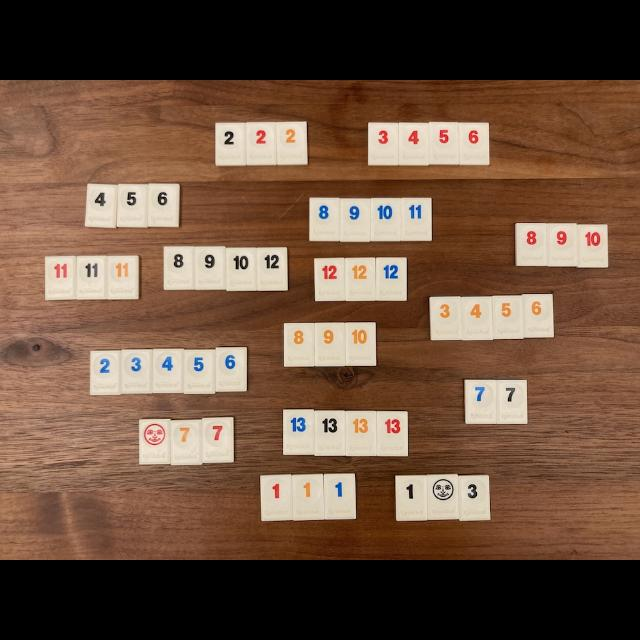black_1: (396, 475, 426, 521)
black_10: (226, 248, 256, 291)
black_11: (76, 256, 106, 299)
black_12: (258, 248, 288, 291)
black_13: (314, 411, 345, 456)
black_2: (215, 122, 246, 166)
black_3: (459, 475, 489, 520)
black_4: (85, 184, 118, 228)
black_5: (116, 186, 149, 228)
black_6: (148, 184, 180, 228)
black_7: (498, 380, 528, 424)
black_8: (164, 246, 195, 290)
black_9: (195, 246, 226, 290)
blue_1: (324, 474, 356, 519)
blue_10: (370, 198, 401, 241)
blue_11: (401, 198, 431, 241)
blue_12: (376, 258, 406, 301)
blue_13: (282, 409, 314, 455)
blue_2: (90, 351, 121, 395)
blue_3: (121, 350, 152, 394)
blue_4: (152, 349, 184, 392)
blue_5: (184, 350, 215, 394)
blue_6: (215, 348, 248, 391)
blue_7: (464, 380, 496, 424)
blue_8: (309, 198, 340, 241)
blue_9: (340, 199, 371, 241)
joker: (139, 419, 170, 464), (427, 475, 458, 519)
orange_1: (292, 475, 324, 520)
orange_10: (345, 322, 376, 366)
orange_11: (108, 256, 139, 299)
orange_12: (345, 258, 375, 301)
orange_13: (345, 411, 376, 456)
orange_2: (276, 122, 307, 165)
orange_3: (430, 296, 461, 340)
orange_4: (462, 296, 492, 340)
orange_5: (491, 296, 523, 339)
orange_6: (523, 294, 553, 338)
orange_7: (171, 420, 201, 465)
orange_8: (284, 322, 315, 366)
orange_9: (315, 322, 345, 366)
red_1: (261, 475, 292, 521)
red_10: (578, 225, 608, 268)
red_11: (45, 256, 76, 300)
red_12: (314, 259, 345, 301)
red_13: (376, 411, 408, 456)
red_2: (246, 122, 276, 165)
red_3: (368, 123, 399, 166)
red_4: (399, 122, 429, 166)
red_5: (429, 122, 459, 165)
red_6: (459, 122, 489, 165)
red_7: (202, 418, 234, 462)
red_8: (515, 222, 546, 266)
red_9: (547, 224, 578, 266)
